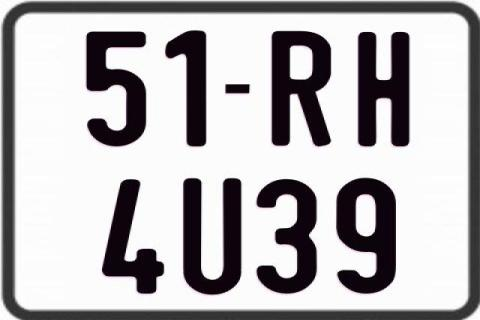0: (102, 177, 168, 293), (255, 179, 321, 295), (336, 175, 400, 293), (86, 29, 146, 147), (162, 28, 208, 148)
H: (355, 31, 408, 149)
R: (270, 32, 329, 150)
U: (180, 177, 244, 296)
